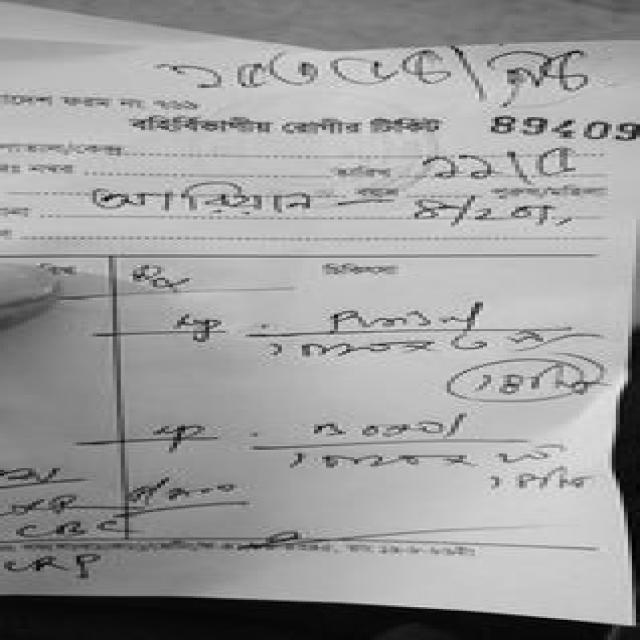Boxol: (289, 412, 491, 444)
Purisal: (310, 298, 531, 335)
